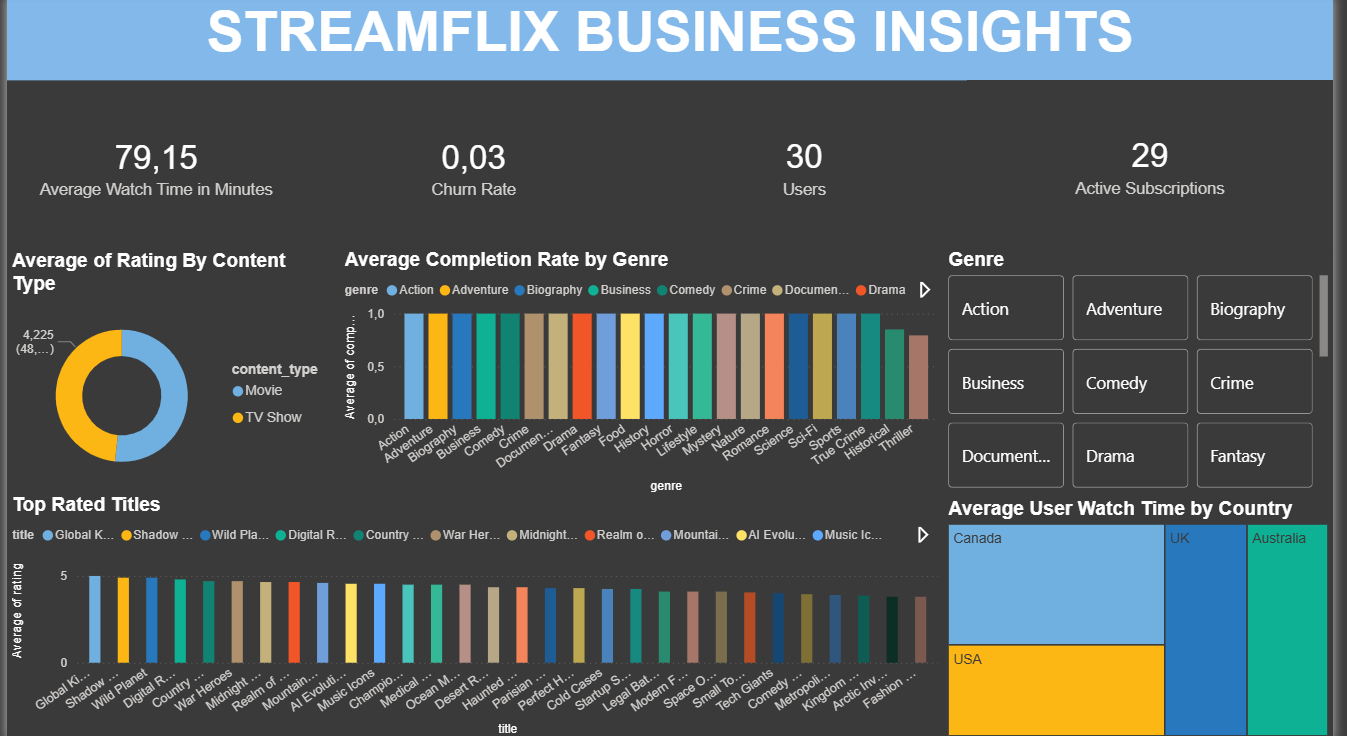

The dashboard page shown, as its layout file describes it:
{"tool":"powerbi","page":{"name":"Page 1","canvas":[1280,720],"ordinal":0},"visuals":[{"type":"textbox","box":[0,0,1280.3,82.3],"z":0},{"type":"card","fields":{"Values":["CountNonNull(subscriptions.user_id)"]},"box":[612.9,83.2,313.7,161.7],"z":1000},{"type":"card","fields":{"Values":["user_demographics.Active_Subscriptions"]},"box":[926.5,82,353.5,162.9],"z":2000},{"type":"card","fields":{"Values":["content_catalog.Churn Rate"]},"box":[288.3,83.2,324.5,162.9],"z":3000},{"type":"donutChart","title":"Average of Rating By Content Type","fields":{"Category":["content_catalog.content_type"],"Y":["Avg(content_ratings.rating)"]},"box":[0,246.1,320.9,240.1],"z":4000},{"type":"columnChart","title":"Average Completion Rate by Country","fields":{"Category":["content_catalog.genre"],"Series":["content_catalog.genre"],"Y":["Avg(user_activity.completion_rate)"]},"box":[320.9,244.9,582.7,240.1],"z":5000},{"type":"ribbonChart","title":"Top Rated Titles","fields":{"Category":["content_catalog.title"],"Y":["Avg(content_ratings.rating)"],"Series":["content_catalog.title"]},"box":[0,481.4,903.6,238.9],"z":6000},{"type":"treemap","title":"Average User Watch Time by Country","fields":{"Group":["user_demographics.country","user_activity.user_id"],"Values":["Avg(user_activity.watch_duration_min)"]},"box":[903.6,485,376.4,235.3],"z":7000},{"type":"card","fields":{"Values":["Avg(user_activity.watch_duration_min)"]},"box":[0,83.2,288.3,162.9],"z":8000},{"type":"advancedSlicerVisual","fields":{"Values":["content_catalog.genre"]},"box":[903.6,244.9,376.4,236.5],"z":9000}]}

Visuals, with their boxes in screenshot pixels (x1, y1, x2, y2), scaled from the page's 1280x720 canvas onto the 1347x736 screenshot:
textbox: 0 0 1346 84
card - CountNonNull(subscriptions.user_id): 645 85 975 250
card - user_demographics.Active_Subscriptions: 975 84 1346 250
card - content_catalog.Churn Rate: 303 85 645 252
"Average of Rating By Content Type" donutChart: 0 252 338 497
"Average Completion Rate by Country" columnChart: 338 250 951 496
"Top Rated Titles" ribbonChart: 0 492 951 735
"Average User Watch Time by Country" treemap: 951 496 1346 735
card - Avg(user_activity.watch_duration_min): 0 85 303 252
advancedSlicerVisual - content_catalog.genre: 951 250 1346 492
